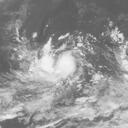cyclone: (36, 43, 85, 88)
